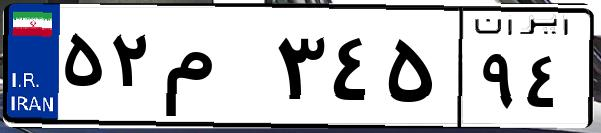2: (110, 28, 158, 98)
3: (270, 28, 330, 110)
4: (330, 28, 385, 110), (525, 38, 570, 115)
5: (385, 28, 445, 110), (57, 26, 110, 100)
9: (475, 38, 525, 113)
م: (158, 20, 270, 120)
